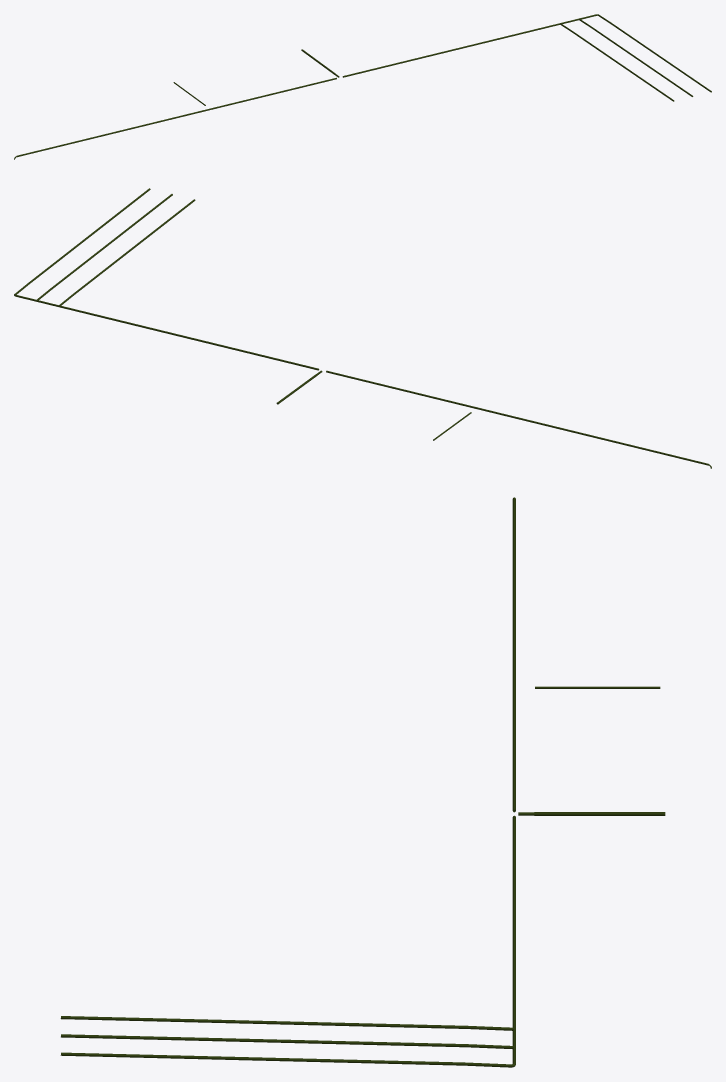
File: Pipes.fbx
3 renders of one model, top to bottom at view 1: azimuth 30°, elevation 25°; view 2: azimuth 150°, elevation 25°; view 3: azimuth 270°, elevation 25°, orthographic. The views are drawn at different scales.
Visible parts, largest first — view 1: Field_Tile, Bypass_Overflow; view 2: Field_Tile, Bypass_Overflow; view 3: Field_Tile, Bypass_Overflow.
Part boxes in pixels (box(x1,y1,x2,y2)): Field_Tile: box(342, 14, 711, 101); Bypass_Overflow: box(17, 77, 336, 157); Field_Tile: box(14, 188, 319, 370); Bypass_Overflow: box(326, 370, 708, 465); Field_Tile: box(60, 815, 515, 1067); Bypass_Overflow: box(512, 497, 515, 812).
Bounding box in the file's own units: 6229 × 93.51 × 2788.
